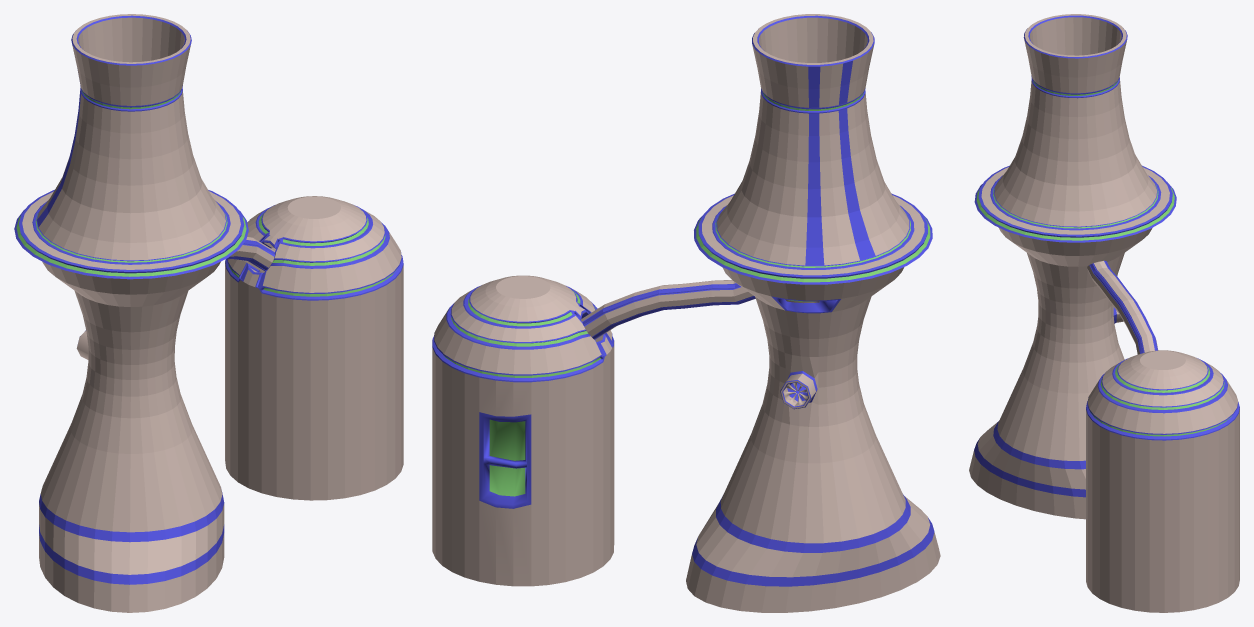
The model's file is Centrale_Nucleaire_L.fbx.
The picture shows the model from 3 angles, left to right: view 1: azimuth 30°, elevation 25°; view 2: azimuth 150°, elevation 25°; view 3: azimuth 270°, elevation 25°; orthographic projection. The views are drawn at different scales.
Visible parts, largest first — view 1: Cylinder.009; view 2: Cylinder.009; view 3: Cylinder.009.
Part boxes in pixels (x1,y1,x2,y2): Cylinder.009: (14, 14, 403, 612); Cylinder.009: (432, 14, 940, 612); Cylinder.009: (969, 14, 1239, 612).
Bounding box in the file's own units: 2363 × 2836 × 1559.
